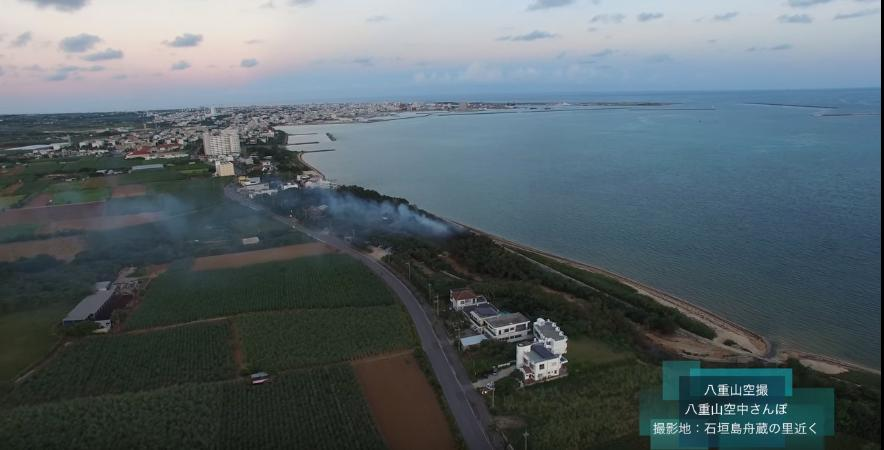smoke: (331, 197, 409, 226)
